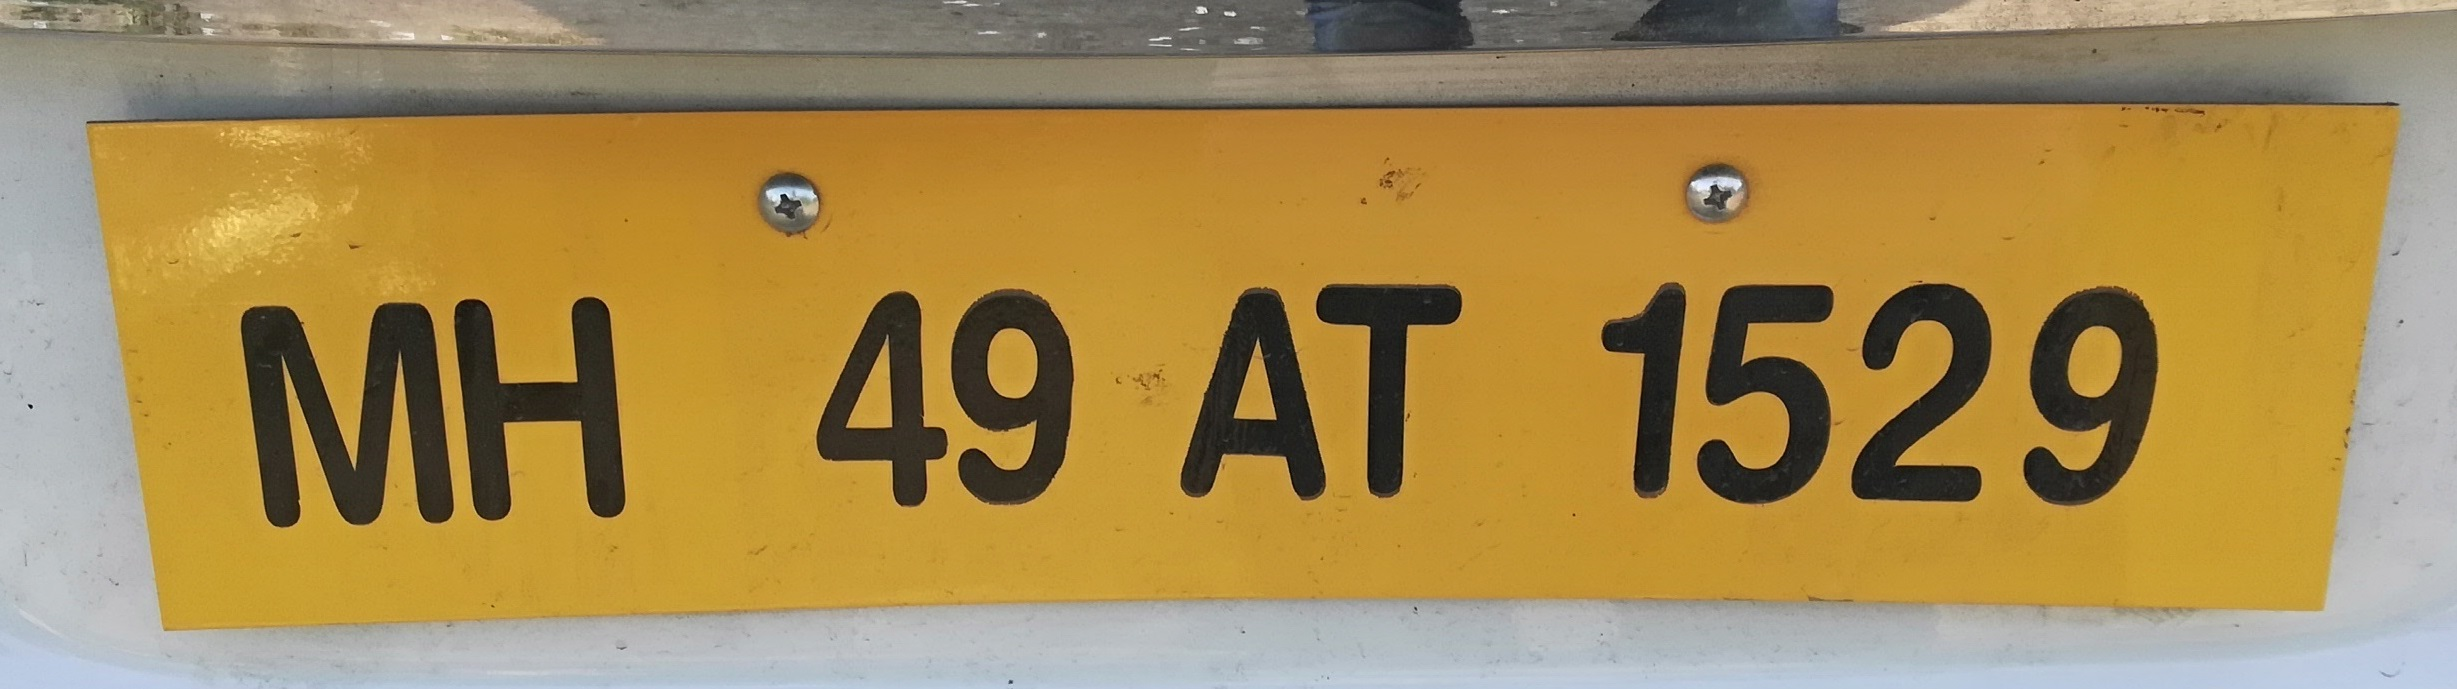numberplate: (70, 100, 2397, 637)
